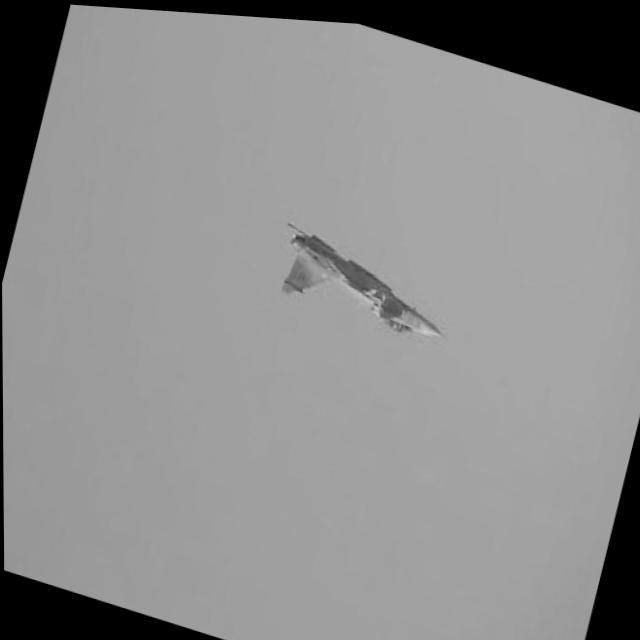aeroplane: (268, 210, 460, 344)
